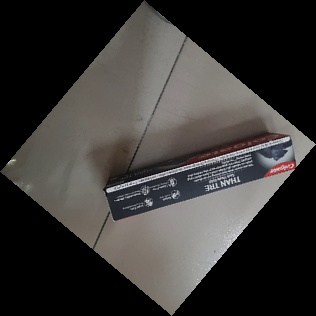Colgate Than: (104, 131, 296, 222)
